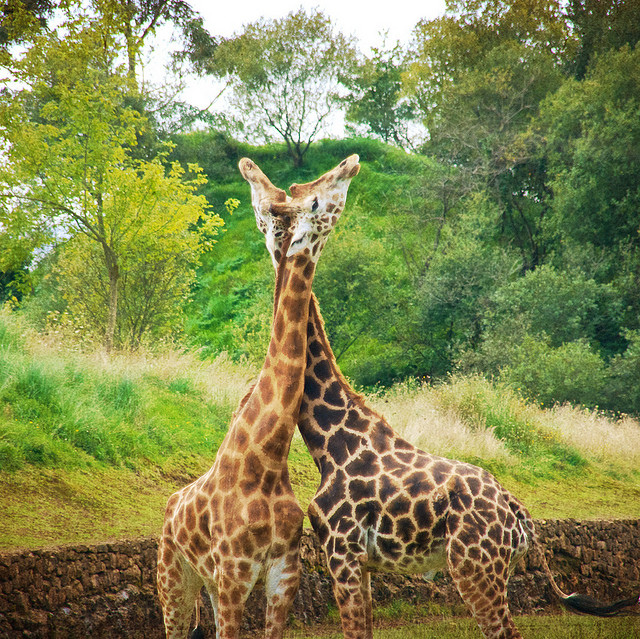giraffe: (228, 158, 537, 608), (151, 147, 370, 604)
